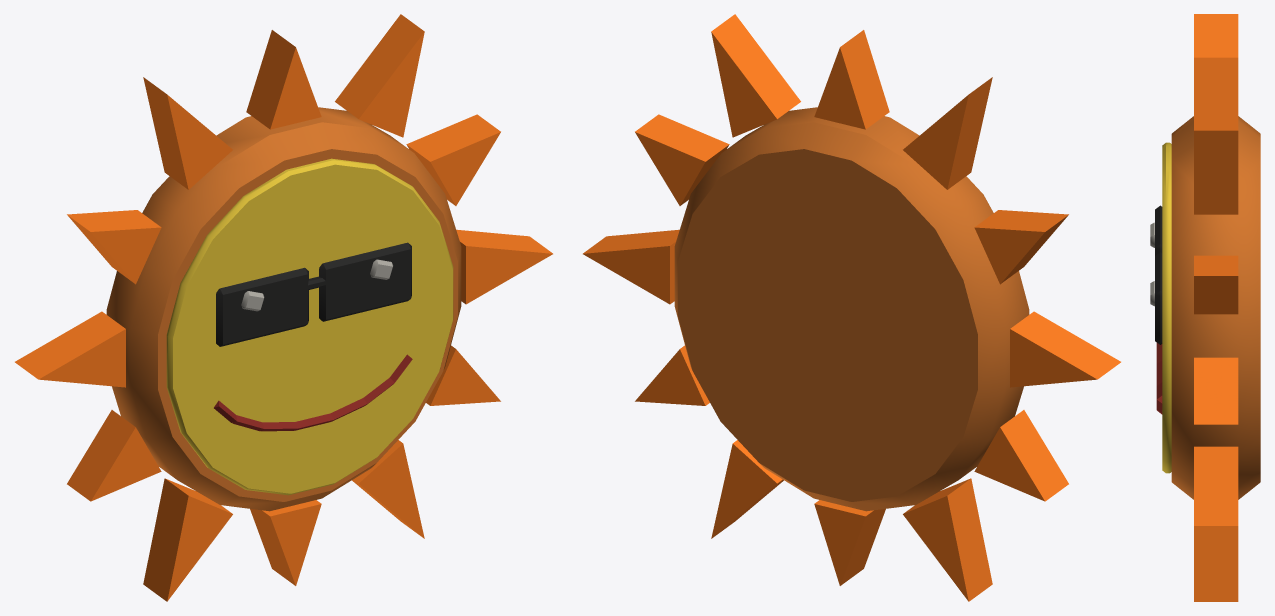
Rendered from 390_soleil_canicule.fbx.
The picture shows the model from 3 angles, left to right: view 1: azimuth 30°, elevation 25°; view 2: azimuth 150°, elevation 25°; view 3: azimuth 270°, elevation 25°; orthographic projection. The views are drawn at different scales.
Parts seen in each view (by area): view 1: Soleil, Rayons; view 2: Soleil, Rayons; view 3: Soleil, Rayons.
Boxes of the visible parts, x1=… form: Soleil: x1=106, y1=107, x2=461, y2=511; Rayons: x1=15, y1=14, x2=552, y2=601; Soleil: x1=674, y1=107, x2=1029, y2=511; Rayons: x1=583, y1=14, x2=1120, y2=601; Soleil: x1=1150, y1=116, x2=1260, y2=499; Rayons: x1=1194, y1=14, x2=1238, y2=601.
Size of the model in its own units: 5.6 by 5.6 by 1.12.
Materials: 1 (1 with a texture image).
